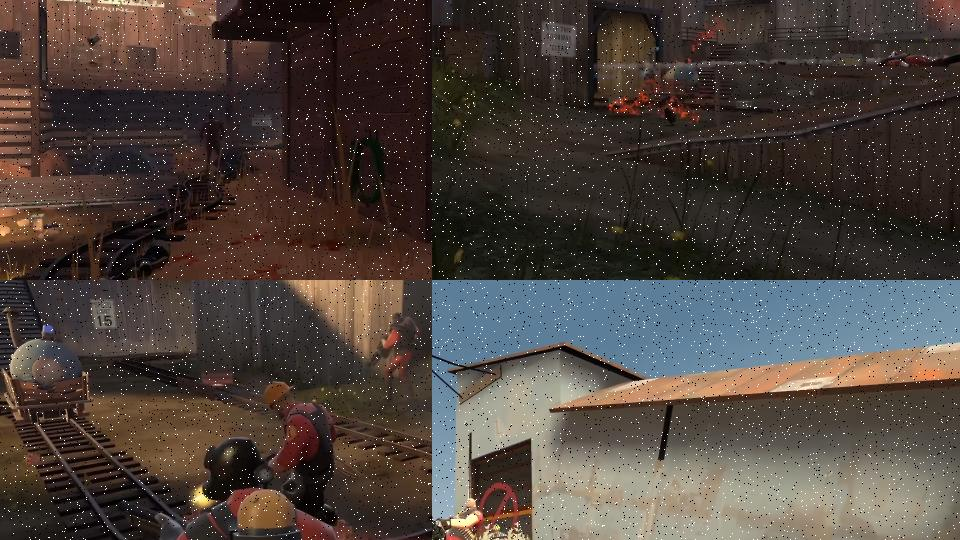Enemy: (118, 440, 355, 540), (264, 381, 338, 526), (365, 313, 420, 399), (197, 104, 229, 181), (432, 497, 484, 540), (875, 49, 960, 68), (489, 523, 508, 537)
